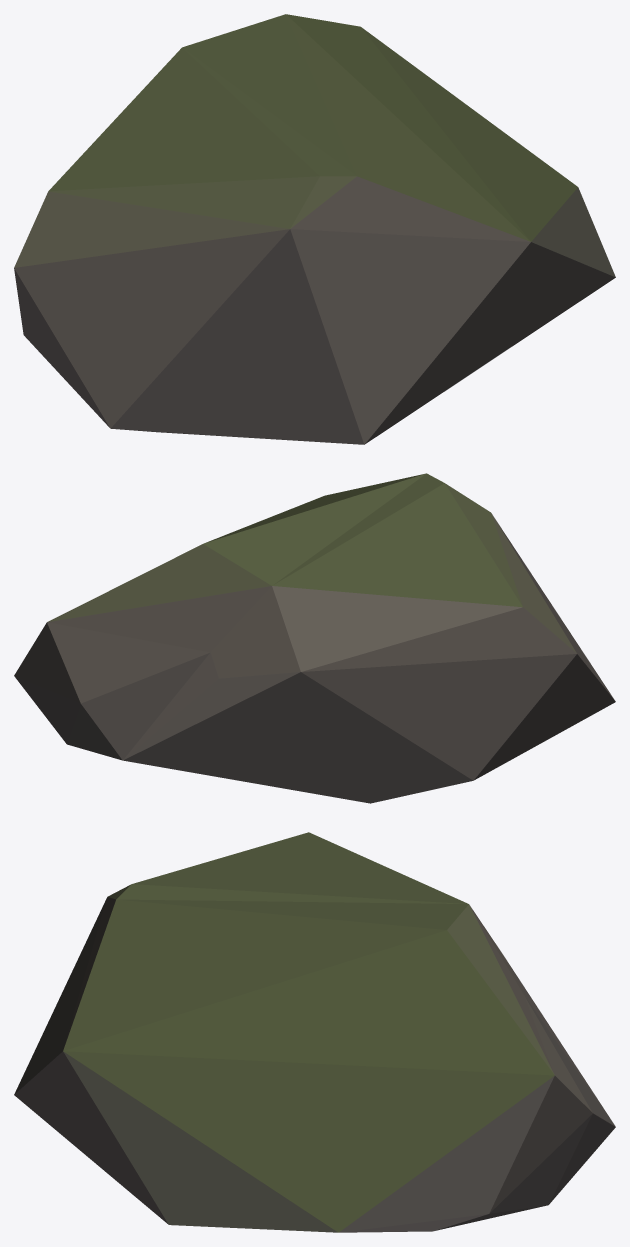
The model's file is boulder_medium.glb.
3 renders of one model, top to bottom at view 1: azimuth 30°, elevation 25°; view 2: azimuth 150°, elevation 25°; view 3: azimuth 270°, elevation 25°, orthographic. The views are drawn at different scales.
Parts seen in each view (by area): view 1: boulder_medium; view 2: boulder_medium; view 3: boulder_medium.
Boxes of the visible parts, bbox=[...] form: boulder_medium: bbox=[14, 14, 615, 444]; boulder_medium: bbox=[14, 473, 615, 803]; boulder_medium: bbox=[14, 832, 615, 1232].
Bounding box in the file's own units: 1.95 × 0.805 × 1.74.
